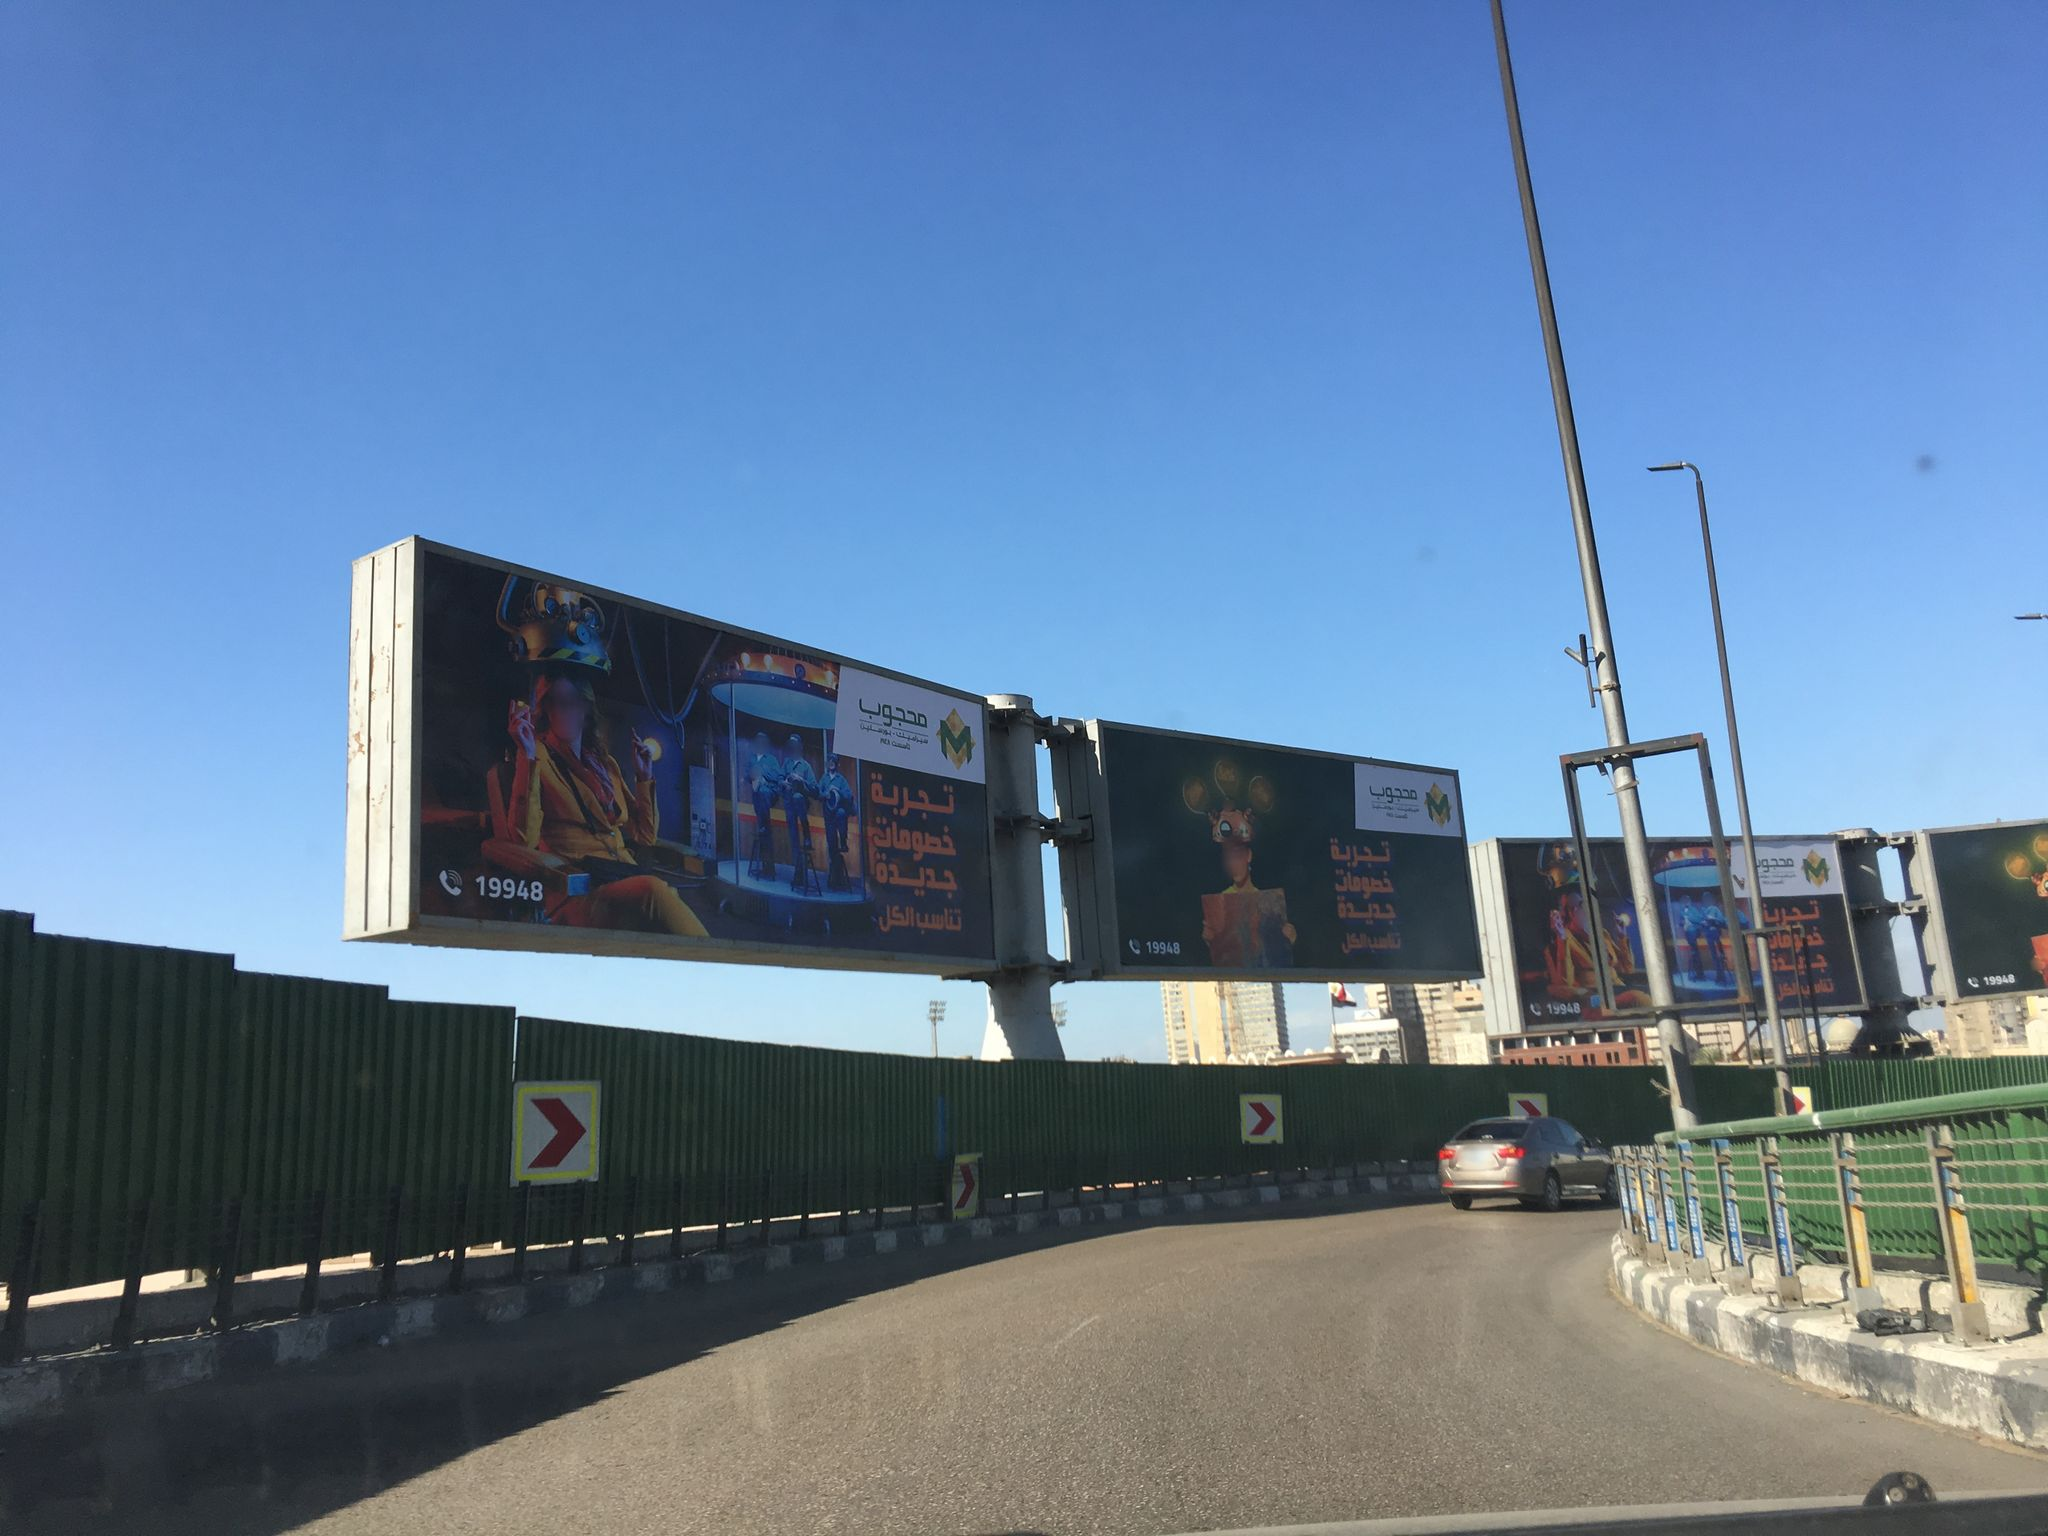car: (1434, 1117, 1619, 1212)
